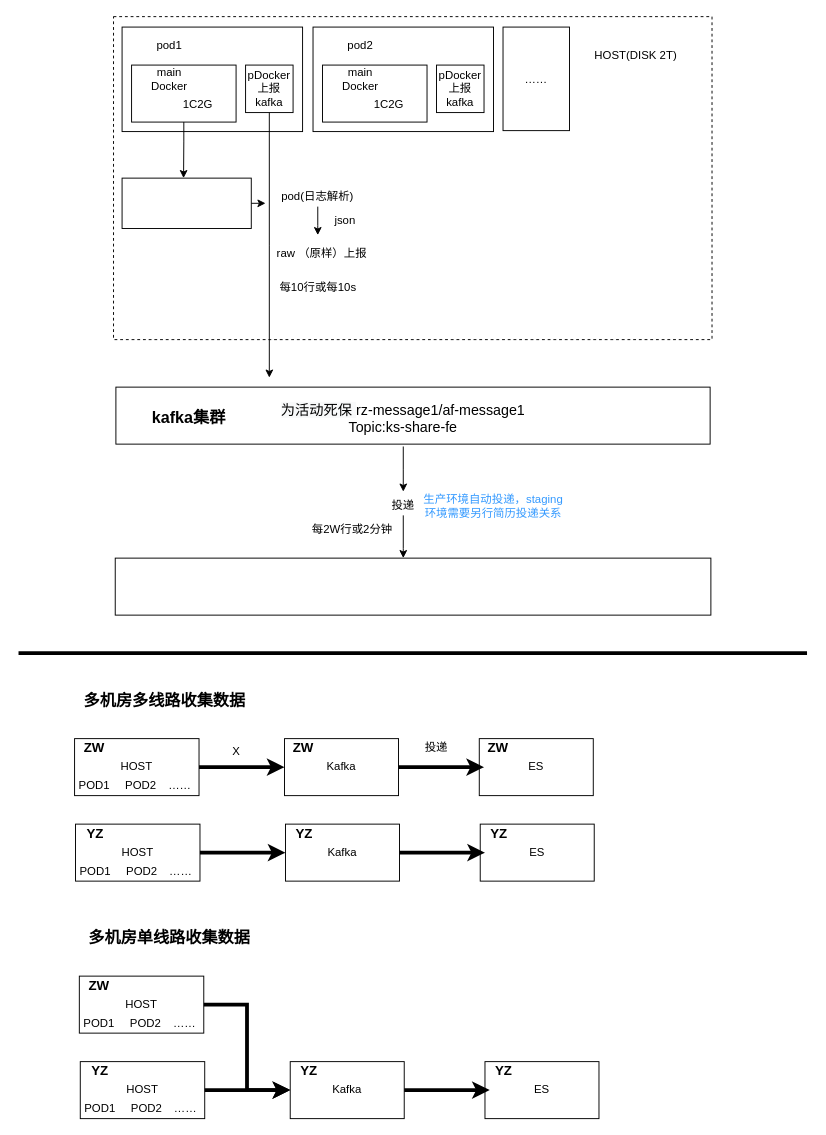
Image size: 826x1135. Some labels were removed from this diagram. The centre of each missing label's shape, as x and y in pixels:
ES集群: (412,586)
info.log info.log.20201112.1 info.log.20201112.2.gz: (186,202)
